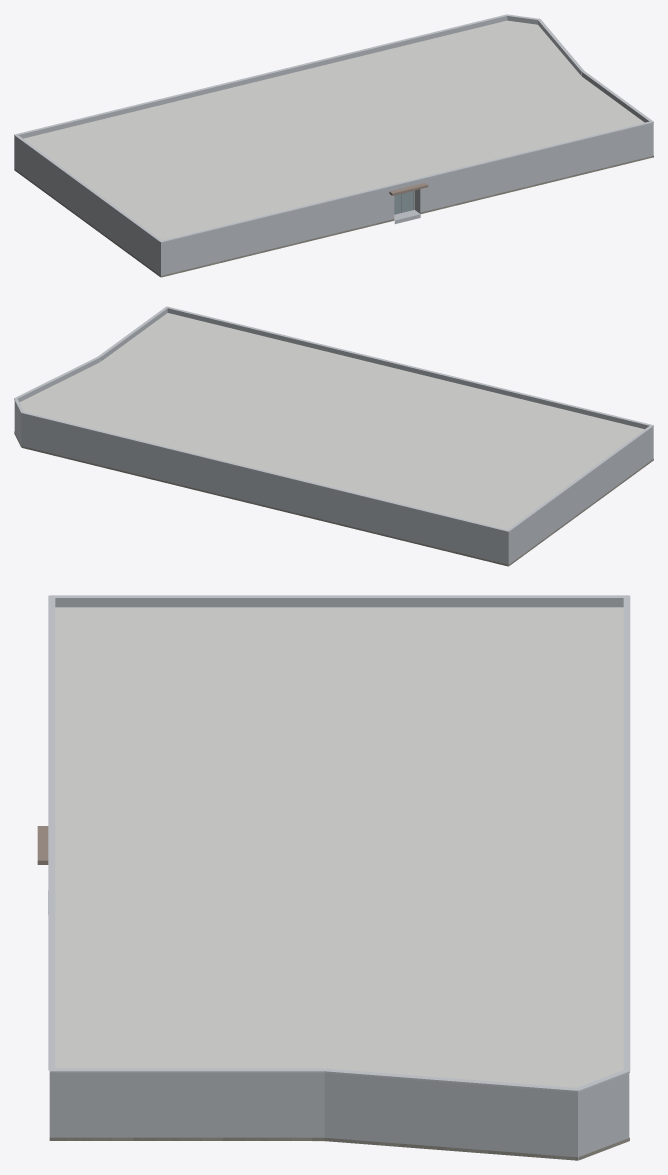
3 renders of one model, top to bottom at view 1: azimuth 30°, elevation 25°; view 2: azimuth 150°, elevation 25°; view 3: azimuth 270°, elevation 25°, orthographic. The views are drawn at different scales.
Parts seen in each view (by area): view 1: osm631011007__roof, osm631011007__wall, osm631011007__parapet, osm631011007__trim, osm631011007__base, osm631011007__glass; view 2: osm631011007__roof, osm631011007__wall, osm631011007__parapet, osm631011007__trim, osm631011007__base; view 3: osm631011007__roof, osm631011007__wall, osm631011007__trim, osm631011007__parapet, osm631011007__base.
Part boxes in pixels (box(x1,y1,x2,y2)): osm631011007__roof: box(23, 20, 644, 240); osm631011007__wall: box(14, 126, 653, 276); osm631011007__parapet: box(14, 16, 653, 246); osm631011007__trim: box(14, 14, 653, 242); osm631011007__base: box(14, 155, 653, 277); osm631011007__glass: box(394, 191, 413, 214); osm631011007__roof: box(19, 313, 644, 529); osm631011007__wall: box(14, 404, 653, 566); osm631011007__parapet: box(14, 308, 653, 535); osm631011007__trim: box(14, 306, 653, 532); osm631011007__base: box(14, 431, 653, 566); osm631011007__roof: box(55, 607, 623, 1160); osm631011007__wall: box(49, 1080, 629, 1160); osm631011007__trim: box(48, 595, 630, 1092); osm631011007__parapet: box(49, 598, 629, 1099); osm631011007__base: box(49, 1137, 629, 1160).
Bounding box in the file's own units: 63.03 × 4.55 × 31.87.
10 materials, 1 textured.
